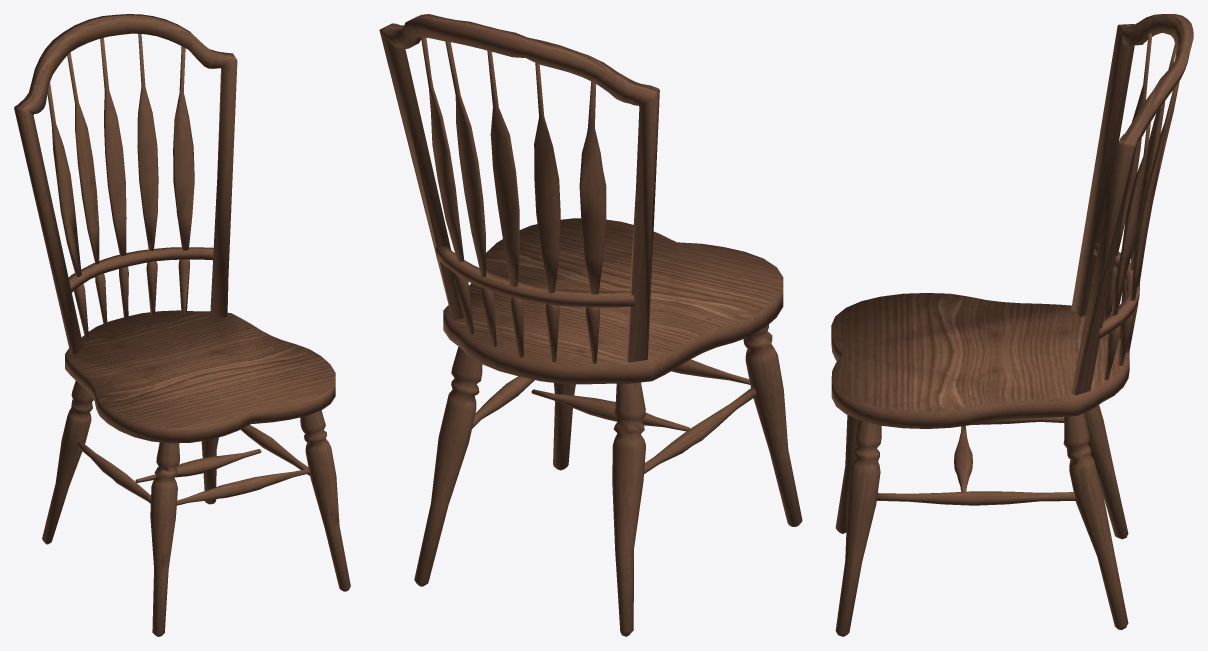
Rendered from dining_chair.glb.
3 renders of one model, left to right at view 1: azimuth 30°, elevation 25°; view 2: azimuth 150°, elevation 25°; view 3: azimuth 270°, elevation 25°, orthographic. The views are drawn at different scales.
Bounding box in the file's own units: 0.4511 × 0.9507 × 0.5669.
1 material, 1 textured.
